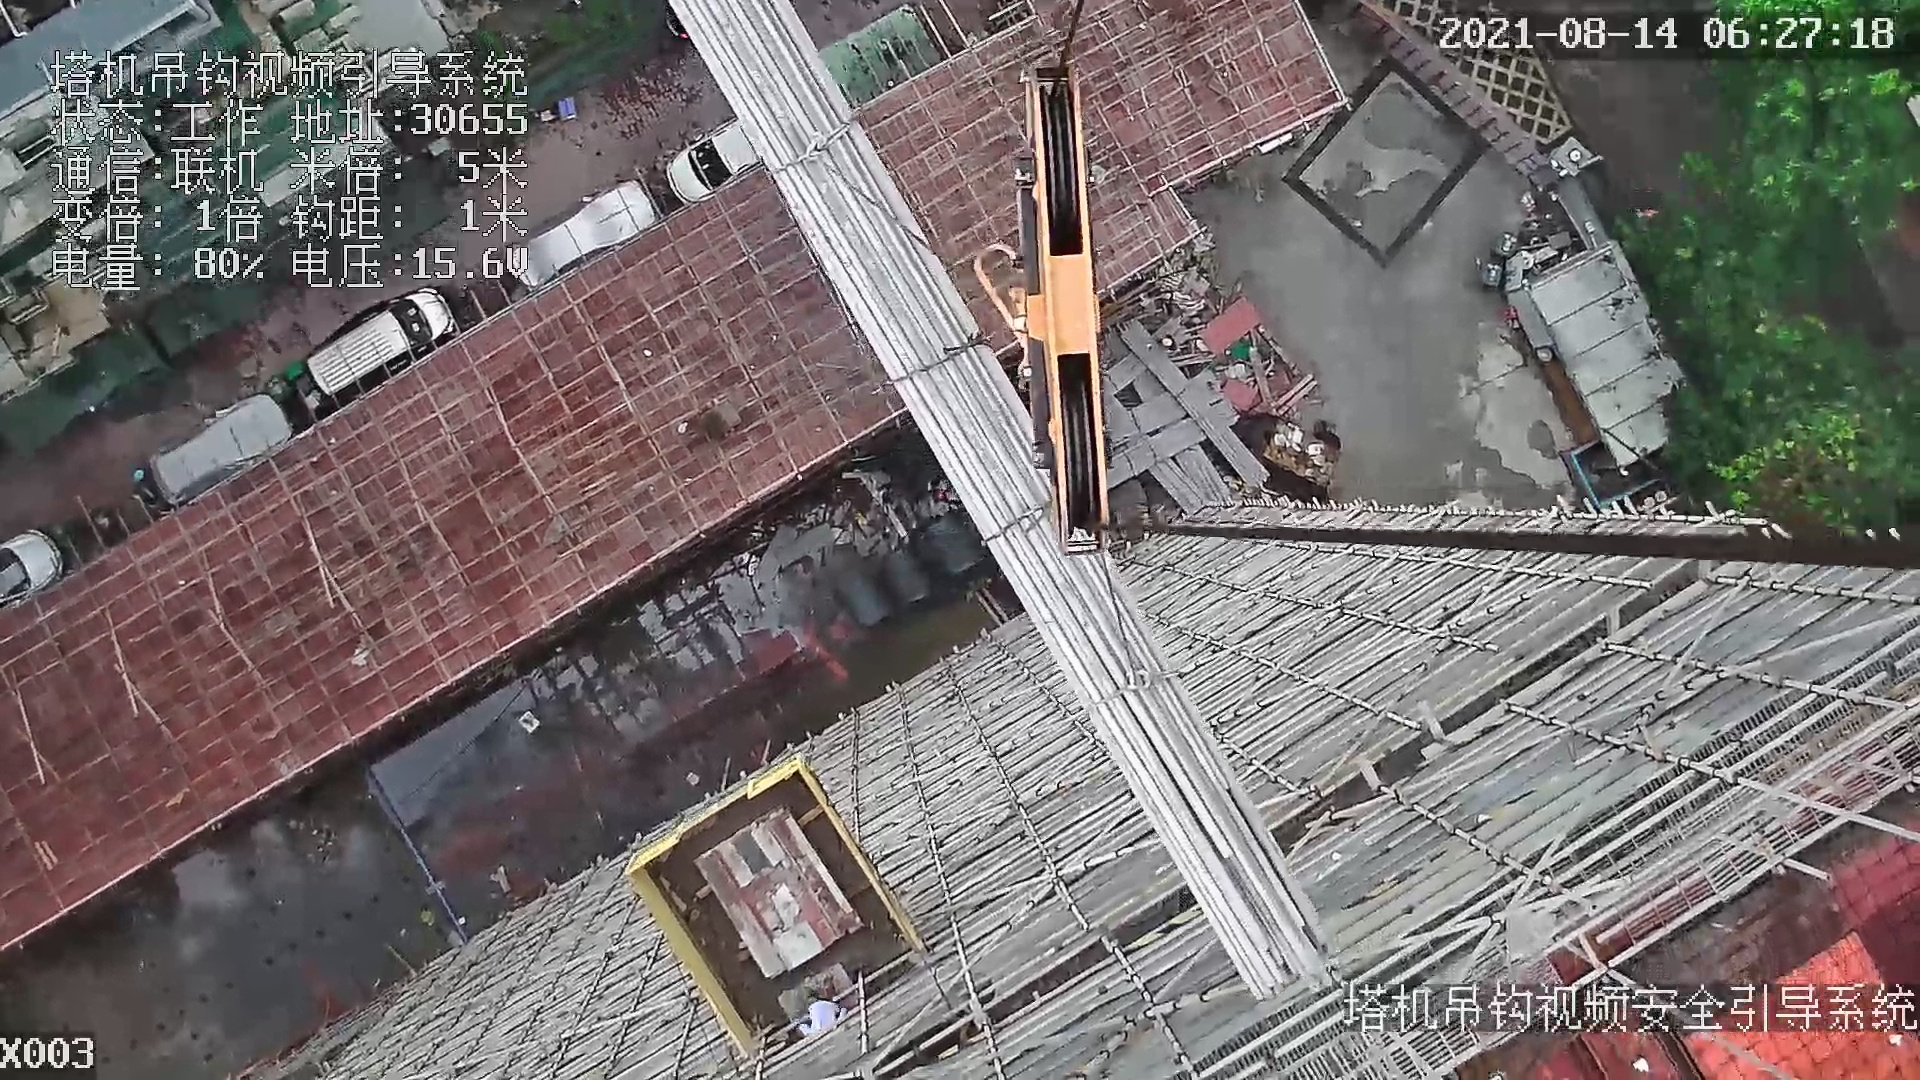hook: (1011, 55, 1112, 555)
